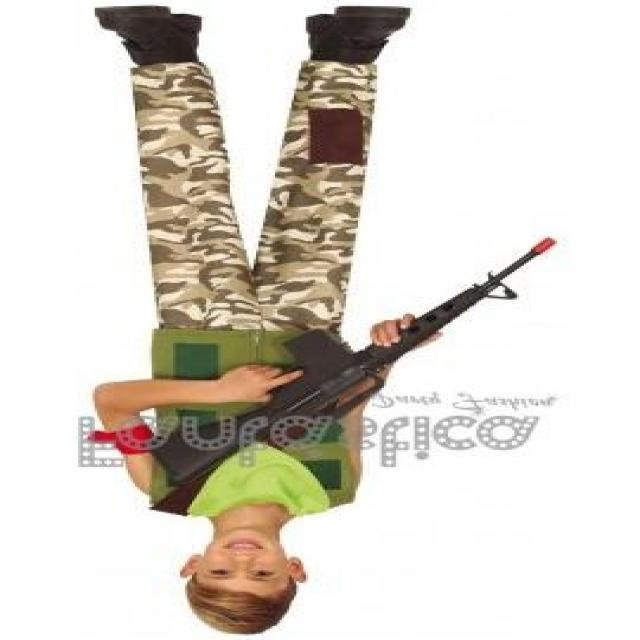weapon: (146, 234, 560, 488)
